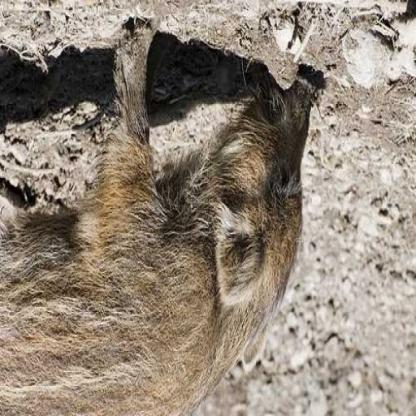boar: (3, 9, 356, 416)
